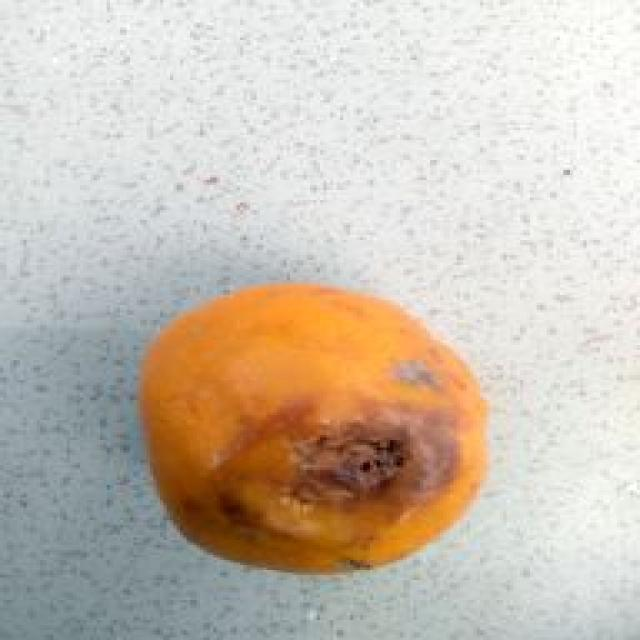Bad_Orange: (140, 285, 487, 571)
